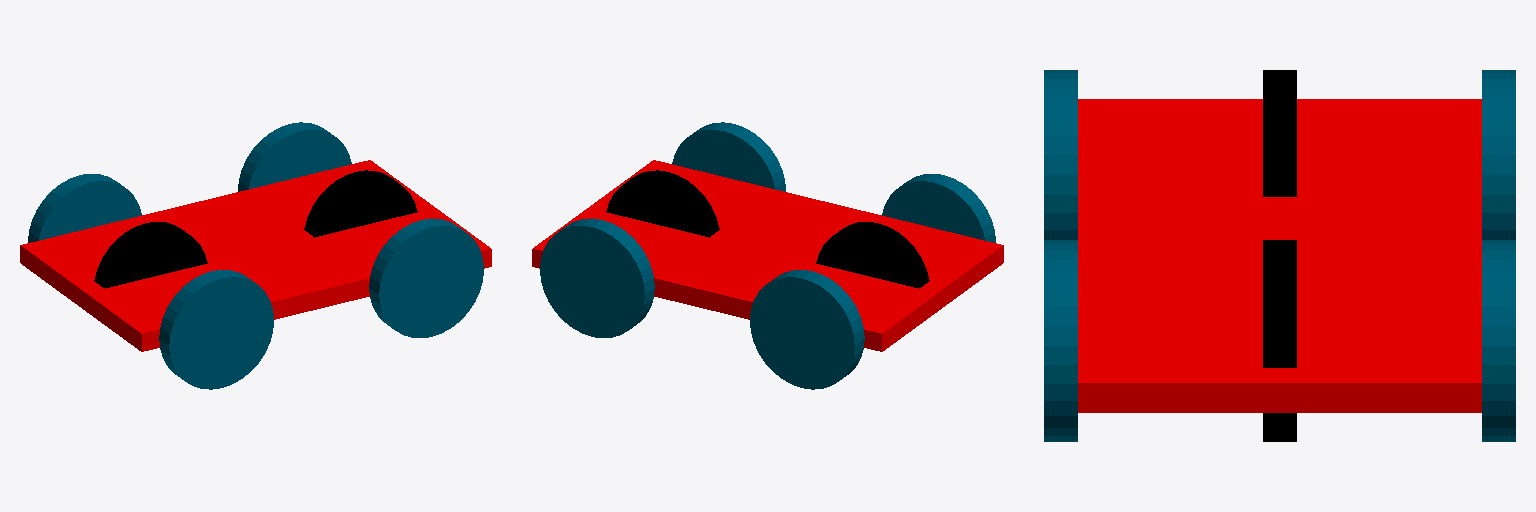
The robot description file, URDF, robot "diff_drive_robot":
<?xml version="1.0"?>
<robot name="diff_drive_robot">

     <!--............................... SENSOR PLUGINS ..................................... -->
    <gazebo>
      <plugin 
      filename="ignition-gazebo-joint-state-publisher-system" 
      name="ignition::gazebo::systems::JointStatePublisher">
    </plugin>
    </gazebo>
    <!--............................... MATERIALS ..................................... -->
    <material name="blue">
        <color rgba="0 0.4 0.5 1"/>
    </material>
    <material name="invisible">
        <color rgba="0.0 0.0 0.0 0.0"/>
    </material>

    <!--............................... LINKS ..................................... -->

    <!-- camera link -->
    <link name="camera_link_optical"></link>

    <!--  imu link -->
    <link name="imu_link"></link>
    
    <!-- baselink -->
    <link name="map">
    </link>

    <!-- Chassis link -->
    <link name="chassis_link">
        <visual>
            <origin xyz="0 0 0" rpy="0 0 0"/>
            <geometry>
                <box size="0.2 0.12 0.01"/>
            </geometry>
            <material name="red">
                <color rgba="1 0 0 1"/>
            </material>
        </visual>
        <collision>
            <origin xyz="0 0 0" rpy="0 0 0"/>
            <geometry>
                <box size="0.2 0.12 0.01"/>
            </geometry>
        </collision>
        <inertial>
            <mass value="0.4"/>
            <inertia ixx="0.00048333" iyy="0.0013367" izz="0.0018133" ixy="0" ixz="0" iyz="0"/>
        </inertial>
    </link>
    
    <!-- Wheel links -->
    <link name="front_right_wheel_link">
        <visual>
            <origin xyz="0 0 0" rpy="1.5708 0 0"/>
            <geometry>
                <cylinder radius="0.03" length="0.01"/>
            </geometry>
            <material name="blue"/>
        </visual>
        <collision>
            <origin xyz="0 0 0" rpy="1.5708 0 0"/>
            <geometry>
                <cylinder radius="0.03" length="0.01"/>
            </geometry>
        </collision>
        <inertial>
            <mass value="0.2"/>
            <inertia ixx="0.00004667" iyy="0.00004667" izz="0.00009" ixy="0" ixz="0" iyz="0"/>
        </inertial>
    </link>

    <link name="front_left_wheel_link">
        <visual>
            <origin xyz="0 0 0" rpy="1.5708 0 0"/>
            <geometry>
                <cylinder radius="0.03" length="0.01"/>
            </geometry>
            <material name="blue"/>
        </visual>
        <collision>
            <origin xyz="0 0 0" rpy="1.5708 0 0"/>
            <geometry>
                <cylinder radius="0.03" length="0.01"/>
            </geometry>
        </collision>
        <inertial>
            <mass value="0.2"/>
            <inertia ixx="0.00004667" iyy="0.00004667" izz="0.00009" ixy="0" ixz="0" iyz="0"/>
        </inertial>
    </link>

    <link name="rear_right_wheel_link">
        <visual>
            <origin xyz="0 0 0" rpy="1.5708 0 0"/>
            <geometry>
                <cylinder radius="0.03" length="0.01"/>
            </geometry>
            <material name="blue"/>
        </visual>
        <collision>
            <origin xyz="0 0 0" rpy="1.5708 0 0"/>
            <geometry>
                <cylinder radius="0.03" length="0.01"/>
            </geometry>
        </collision>
        <inertial>
            <mass value="0.2"/>
            <inertia ixx="0.00004667" iyy="0.00004667" izz="0.00009" ixy="0" ixz="0" iyz="0"/>
        </inertial>
    </link>

    <link name="rear_left_wheel_link">
        <visual>
            <origin xyz="0 0 0" rpy="1.5708 0 0"/>
            <geometry>
                <cylinder radius="0.03" length="0.01"/>
            </geometry>
            <material name="blue"/>
        </visual>
        <collision>
            <origin xyz="0 0 0" rpy="1.5708 0 0"/>
            <geometry>
                <cylinder radius="0.03" length="0.01"/>
            </geometry>
        </collision>
        <inertial>
            <mass value="0.2"/>
            <inertia ixx="0.00004667" iyy="0.00004667" izz="0.00009" ixy="0" ixz="0" iyz="0"/>
        </inertial>
    </link>

   <!-- Virtual rear wheel -->
    <link name="virtual_rear_wheel">
          <visual>
            <origin xyz="0 0 0" rpy="0 1.5708 0"/>
            <geometry>
                <cylinder radius="0.03" length="0.01"/>
            </geometry>
            <material name="invisible"/>
        </visual>
        <collision>
            <origin xyz="0 0 0" rpy="0 1.5708 0"/>
            <geometry>
                <cylinder radius="0.03" length="0.01"/>
            </geometry>
        </collision>
        <inertial>
            <mass value="0.2"/>
            <inertia ixx="0.00004667" iyy="0.00004667" izz="0.00009" ixy="0" ixz="0" iyz="0"/>
        </inertial>
    </link>

    <link name="virtual_front_wheel">
        <visual>
            <origin xyz="0 -0.12 0" rpy="0 1.5708 0"/>
            <geometry>
                <cylinder radius="0.03" length="0.01"/>
            </geometry>
            <material name="invisible"/>
        </visual>
        <collision>
            <origin xyz="0 0 0" rpy="0 1.5708 0"/>
            <geometry>
                <cylinder radius="0.03" length="0.01"/>
            </geometry>
        </collision>
        <inertial>
            <mass value="0.2"/>
            <inertia ixx="0.00004667" iyy="0.00004667" izz="0.00009" ixy="0" ixz="0" iyz="0"/>
        </inertial>
    </link>

    <link name="camera_link">
        <visual>
            <origin xyz="0 -0.12 0" rpy="0 1.5708 0"/>
            <geometry>
                <cylinder radius="0.003" length="0.01"/>
            </geometry>
        </visual>
        <collision>
            <origin xyz="0 0 0" rpy="0 1.5708 0"/>
            <geometry>
                <cylinder radius="0.003" length="0.01"/>
            </geometry>
        </collision>
        <inertial>
            <mass value="0.2"/>
            <inertia ixx="0.00004667" iyy="0.00004667" izz="0.00009" ixy="0" ixz="0" iyz="0"/>
        </inertial>
    </link>

    <!-- Joints -->
    <joint name="joint_base_chassis" type="fixed">
        <parent link="map"/>
        <child link="chassis_link"/>
         <origin xyz="0.06 0.065 0" rpy="0 0 0"/>
    </joint>    

     <joint name="joint_chassis_camera" type="continuous">
        <parent link="chassis_link"/>
        <child link="camera_link"/>
        <origin xyz="0.06 0.065 0" rpy="0 0 0"/>
        <axis xyz="0 1 0"/>
    </joint>

    <joint name="joint_chassis_front_right_wheel" type="continuous">
        <parent link="chassis_link"/>
        <child link="front_right_wheel_link"/>
        <origin xyz="0.06 0.065 0" rpy="0 0 0"/>
        <axis xyz="0 1 0"/>
    </joint>
    
    <joint name="joint_chassis_front_left_wheel" type="continuous">
        <parent link="chassis_link"/>
        <child link="front_left_wheel_link"/>
        <origin xyz="0.06 -0.065 0" rpy="0 0 0"/>
        <axis xyz="0 1 0"/>
    </joint>
    
    <joint name="joint_chassis_rear_right_wheel" type="continuous">
        <parent link="chassis_link"/>
        <child link="rear_right_wheel_link"/>
        <origin xyz="-0.06 0.065 0" rpy="0 0 0"/>
        <axis xyz="0 1 0"/>
    </joint>
    
    <joint name="joint_chassis_rear_left_wheel" type="continuous">
        <parent link="chassis_link"/>
        <child link="rear_left_wheel_link"/>
        <origin xyz="-0.06 -0.065 0" rpy="0 0 0"/>
        <axis xyz="0 1 0"/>
    </joint>

    <joint name="virtual_rear_wheel_joint" type="continuous">
      <parent link="chassis_link"/>
      <child link="virtual_rear_wheel"/>
      <origin xyz="-0.06 0 0" rpy="0 0 1.5708"/>
      <axis xyz="1 0 0"/>
      <limit effort="100.0" velocity="100.0"/>
      <dynamics damping="0.2"/>
    </joint>

    <joint name="virtual_front_wheel_joint" type="revolute">
        <parent link="chassis_link"/> <!-- Corrected the link name -->
        <child link="virtual_front_wheel"/>
        <origin xyz="-0.06 0 0" rpy="0 0 1.5708"/>
        <axis xyz="0 0 1"/>
        <limit lower="-0.4" upper="0.4" effort="100.0" velocity="0.0"/>
        <dynamics damping="0.2"/>
    </joint>

    <joint name="camera_optical_joint" type="fixed">
        <origin xyz="0 0 0" rpy="-1.571 0 -1.571" />
         <parent link="chassis_link"/>
        <child link="camera_link_optical" />
    </joint>
    
    <joint name="imu_joint" type="fixed">
        <parent link="chassis_link" />
        <child link="imu_link" />
        <origin xyz="0 0 1.2" rpy="0 0 0" />
    </joint>

<!--............................... GAZEBO DRIVER ..................................... -->
    <gazebo>
        <plugin
            filename="libignition-gazebo-diff-drive-system.so"
            name="ignition::gazebo::systems::DiffDrive">
            <left_joint>joint_chassis_front_left_wheel</left_joint>
            <right_joint>joint_chassis_front_right_wheel</right_joint>
            <wheel_separation>0.2</wheel_separation>
            <wheel_radius>0.03</wheel_radius>
            <odom_publish_frequency>1</odom_publish_frequency>
            <topic>cmd_vel</topic>
        </plugin>
    </gazebo>

    
    <!--............................... IMU PLUGIN ..................................... -->

    <gazebo reference="imu_frame">
        <sensor name="imu" type="imu">
            <always_on>true</always_on>
            <update_rate>5</update_rate>
            <visualize>true</visualize>
            <topic>imu</topic>
            <plugin name="imu_plugin" filename="libgazebo_ros_imu_sensor.so">
                <ros>
                    <remapping>~/out:=imu</remapping>
                </ros>
            </plugin>
        </sensor>
    </gazebo>

   <!-- ........................... CAMERA PLUGIN ................................... -->
       <gazebo reference="camera_link">
        <sensor name="rgbd_camera" type="rgbd_camera">
          <camera>
            <horizontal_fov>1.047</horizontal_fov>
            <image>
              <width>320</width>
              <height>240</height>
            </image>
            <clip>
              <near>0.1</near>
              <far>100</far>
            </clip>
          </camera>
          <always_on>1</always_on>
          <update_rate>30</update_rate>
          <visualize>true</visualize>
          <topic>rgbd_camera</topic>
          <enable_metrics>true</enable_metrics>
        </sensor>
    </gazebo>
</robot>

--- What the picture shows (computed from the rendered views, not written in the file) ---
The picture shows the robot from 3 angles, left to right: view 1: azimuth 30°, elevation 25°; view 2: azimuth 150°, elevation 25°; view 3: azimuth 270°, elevation 25°; orthographic projection.
Model diff_drive_robot with 11 links and 10 joints (1 revolute, 6 continuous, 3 fixed), rooted at map, posed all joints at 0.
Visible links, largest first — view 1: chassis_link, front_left_wheel_link, rear_left_wheel_link, front_right_wheel_link, rear_right_wheel_link, virtual_rear_wheel, virtual_front_wheel; view 2: chassis_link, front_right_wheel_link, rear_right_wheel_link, front_left_wheel_link, rear_left_wheel_link, virtual_rear_wheel, virtual_front_wheel; view 3: chassis_link, front_right_wheel_link, front_left_wheel_link, rear_right_wheel_link, rear_left_wheel_link, virtual_front_wheel, virtual_rear_wheel.
Link boxes in pixels (x1,y1,x2,y2): chassis_link: (20,160,491,351); front_left_wheel_link: (369,218,483,337); rear_left_wheel_link: (159,270,273,389); front_right_wheel_link: (238,122,351,191); rear_right_wheel_link: (28,174,141,242); virtual_rear_wheel: (94,222,207,288); virtual_front_wheel: (304,170,417,237); chassis_link: (532,160,1003,351); front_right_wheel_link: (540,218,654,337); rear_right_wheel_link: (750,270,864,389); front_left_wheel_link: (672,122,785,191); rear_left_wheel_link: (882,174,995,242); virtual_rear_wheel: (816,222,929,288); virtual_front_wheel: (606,170,719,237); chassis_link: (1078,99,1481,412); front_right_wheel_link: (1482,240,1515,441); front_left_wheel_link: (1044,240,1077,441); rear_right_wheel_link: (1482,70,1515,239); rear_left_wheel_link: (1044,70,1077,239); virtual_front_wheel: (1263,240,1296,441); virtual_rear_wheel: (1263,70,1296,196).
Size in the robot's own frame: 0.2 by 0.14 by 0.06 metres.
Geometry: primitives only (box / cylinder / sphere), no mesh files.